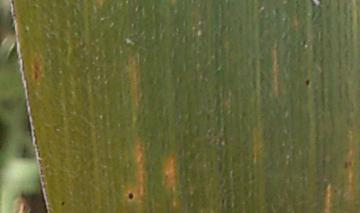tarspot: (125, 189, 135, 202), (58, 196, 68, 209), (305, 77, 311, 89)
